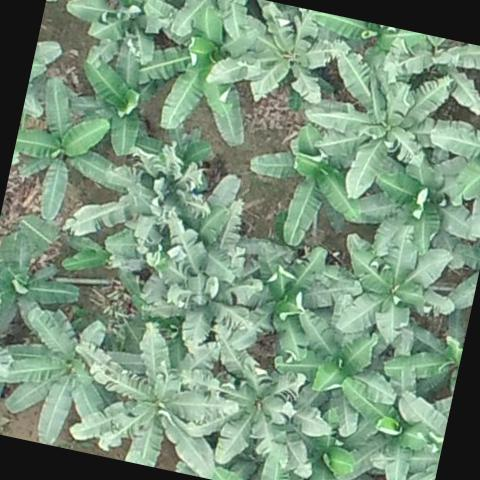Banana-plant: (55, 309, 246, 480), (301, 25, 455, 210), (166, 337, 339, 480), (0, 302, 151, 459), (120, 0, 269, 154), (1, 72, 140, 234), (326, 213, 468, 356), (232, 116, 372, 258), (264, 306, 408, 444), (63, 135, 220, 261), (136, 211, 274, 354), (232, 235, 366, 367), (342, 142, 480, 270), (206, 0, 343, 114), (62, 33, 160, 161), (322, 374, 440, 480), (413, 74, 480, 240), (0, 227, 87, 345), (378, 308, 468, 408), (55, 228, 154, 304), (57, 0, 171, 63), (0, 276, 27, 433)
